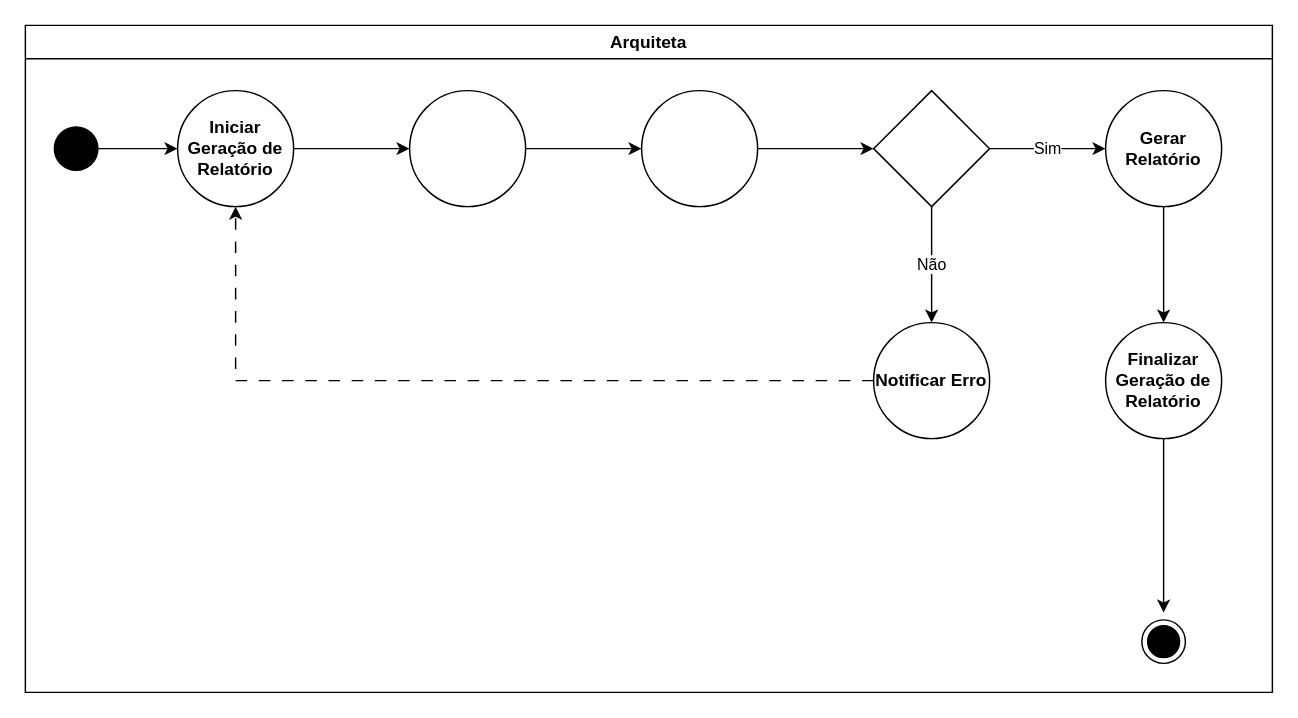
Image size: 1298x718. Some labels were removed from this diagram. Here are the shapes that lost their labels. From the top down, the centre of each, then its label:
At [467,148]: "Coletar Critérios de Seleção".
At [699,148]: "Buscar Dados".
